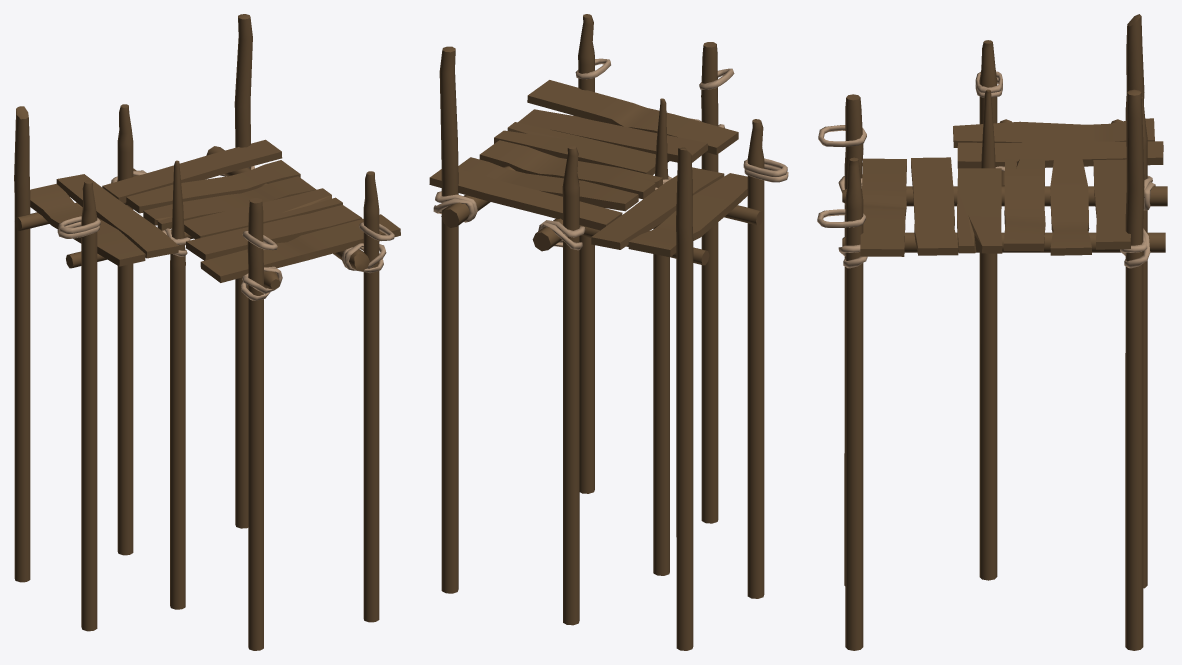
File: woodenBridge_corner_mesh.fbx
3 renders of one model, left to right at view 1: azimuth 30°, elevation 25°; view 2: azimuth 150°, elevation 25°; view 3: azimuth 270°, elevation 25°, orthographic. The views are drawn at different scales.
Parts seen in each view (by area): view 1: corner; view 2: corner; view 3: corner.
Part boxes in pixels (x1,y1,x2,y2): corner: (14, 14, 400, 650); corner: (429, 14, 788, 650); corner: (817, 14, 1167, 650).
Size of the model in its own units: 0.8155 by 1.4 by 0.8001.
